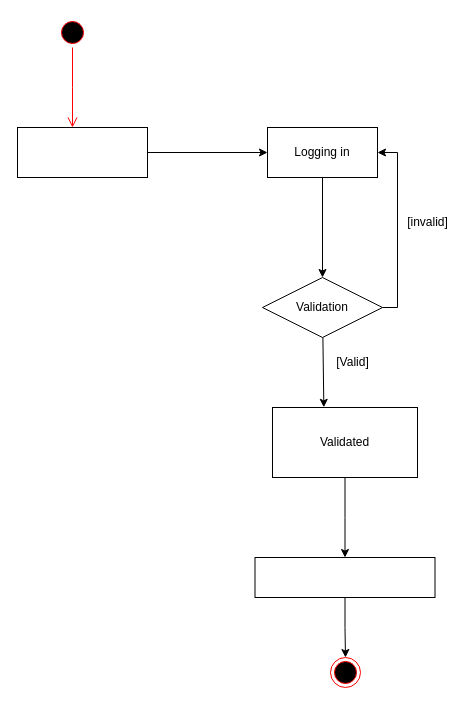
Image size: 475x705. Some labels were removed from this diagram. Here are the shapes that lost their labels. From the top down, the centre of each, then its label:
At [82,152]: "Registering Account".
At [344,577]: "Playgame".
